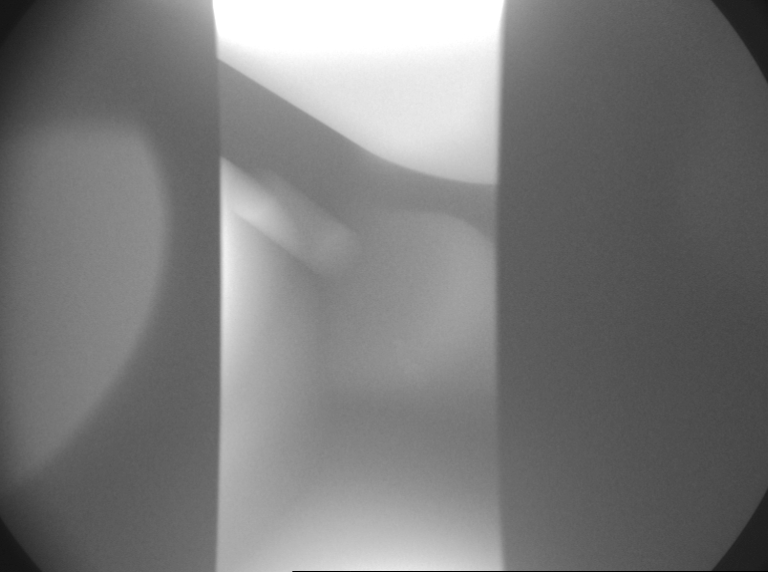defect: (382, 338, 434, 393)
